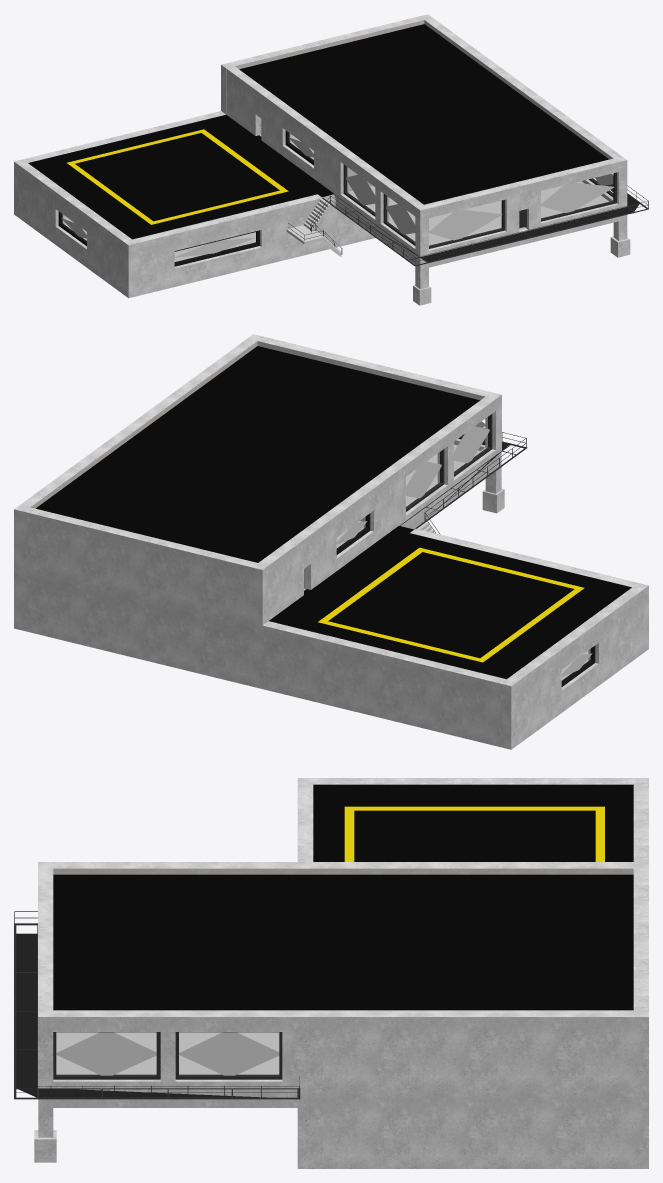
File: military-hq.walls-v3.lod1.glb
3 renders of one model, top to bottom at view 1: azimuth 30°, elevation 25°; view 2: azimuth 150°, elevation 25°; view 3: azimuth 270°, elevation 25°, orthographic. The views are drawn at different scales.
Parts seen in each view (by area): view 1: Walls_Floor_2_0, Walls_Outer_Walls_0, Railing_Railing_0, Walls_Inner_walls_0; view 2: Walls_Floor_2_0, Walls_Outer_Walls_0, Walls_Inner_walls_0, Railing_Railing_0; view 3: Walls_Floor_2_0, Walls_Outer_Walls_0, Railing_Railing_0, Walls_Inner_walls_0.
Boxes of the visible parts, x1=… form: Walls_Floor_2_0: x1=28, y1=24, x2=638, y2=266; Walls_Outer_Walls_0: x1=14, y1=14, x2=630, y2=305; Railing_Railing_0: x1=288, y1=164, x2=648, y2=266; Walls_Inner_walls_0: x1=50, y1=20, x2=613, y2=241; Walls_Floor_2_0: x1=36, y1=346, x2=631, y2=686; Walls_Outer_Walls_0: x1=14, y1=334, x2=648, y2=749; Walls_Inner_walls_0: x1=30, y1=341, x2=631, y2=680; Railing_Railing_0: x1=399, y1=414, x2=527, y2=534; Walls_Floor_2_0: x1=16, y1=784, x2=633, y2=1097; Walls_Outer_Walls_0: x1=34, y1=778, x2=648, y2=1168; Railing_Railing_0: x1=14, y1=911, x2=300, y2=1099; Walls_Inner_walls_0: x1=53, y1=868, x2=633, y2=874.
Size of the model in its own units: 40.21 by 8.91 by 33.7.
6 materials, 3 textured.
